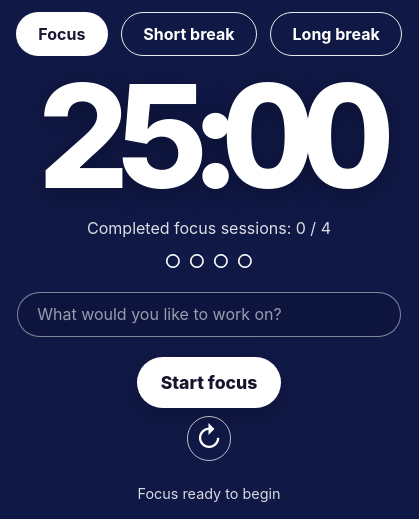
Test: TimerScreen › switches to a short break without increasing the completed focus count
Expected: the text "Completed focus sessions: 0 / 4" is shown, [87,218,331,238]
Click the button "Short break". click: [189, 34]
box: [121,12,257,56]
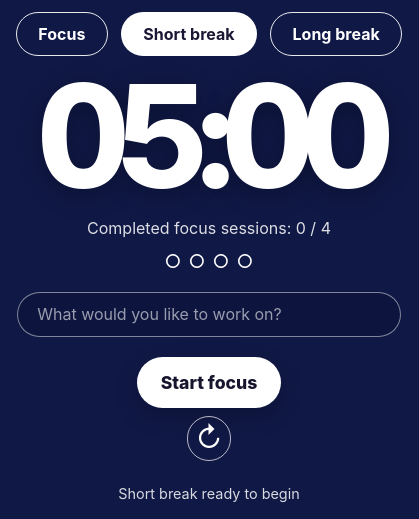
Expected: the text "Completed focus sessions: 0 / 4" is shown, [87,218,331,238]
Now the text "05:00" is shown, box [37,76,381,198]
